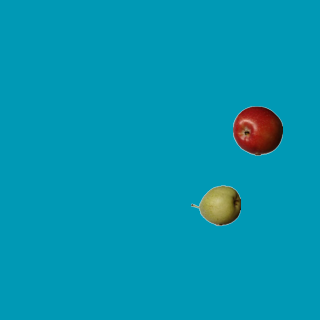Apple Braeburn: (232, 105, 282, 155)
Pear: (190, 180, 240, 230)
